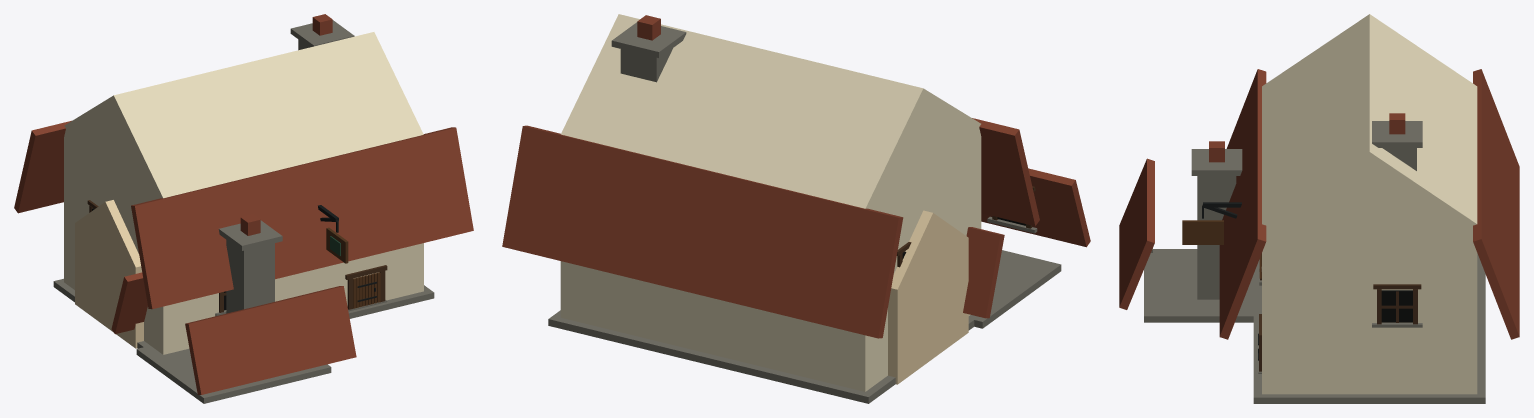
Rendered from house_inn.obj.
3 views of the same model, side by side, from view 1: azimuth 30°, elevation 25°; view 2: azimuth 150°, elevation 25°; view 3: azimuth 270°, elevation 25° (orthographic). The views are drawn at different scales.
Visible parts, largest first — view 1: house_inn walls, house_inn roof slope, house_inn wing roof slope, house_inn wing walls, house_inn kitchen chimney stack, house_inn wing footing, house_inn footing, house_inn kitchen chimney cap, house_inn chimney cap, house_inn door plank, house_inn sign board; view 2: house_inn walls, house_inn roof slope, house_inn wing walls, house_inn wing roof slope, house_inn footing, house_inn wing footing, house_inn chimney cap, house_inn chimney stack, house_inn chimney pot; view 3: house_inn walls, house_inn roof slope, house_inn wing footing, house_inn footing, house_inn wing roof slope, house_inn kitchen chimney stack, house_inn kitchen chimney cap, house_inn chimney cap, house_inn sign board, house_inn end light recess, house_inn chimney stack, house_inn chimney pot (+1 smaller).
Part boxes in pixels (left/top/right/bottom): house_inn walls: left=64, top=32, right=423, bottom=354; house_inn roof slope: left=14, top=120, right=473, bottom=309; house_inn wing roof slope: left=111, top=272, right=356, bottom=394; house_inn wing walls: left=75, top=200, right=143, bottom=348; house_inn kitchen chimney stack: left=226, top=240, right=274, bottom=313; house_inn wing footing: left=136, top=347, right=331, bottom=403; house_inn footing: left=53, top=278, right=434, bottom=359; house_inn kitchen chimney cap: left=218, top=220, right=282, bottom=250; house_inn chimney cap: left=290, top=20, right=354, bottom=47; house_inn door plank: left=353, top=272, right=380, bottom=308; house_inn sign board: left=326, top=227, right=348, bottom=263; house_inn walls: left=560, top=14, right=981, bottom=391; house_inn roof slope: left=502, top=118, right=1039, bottom=338; house_inn wing walls: left=888, top=210, right=968, bottom=384; house_inn wing roof slope: left=963, top=168, right=1090, bottom=318; house_inn footing: left=548, top=305, right=993, bottom=403; house_inn wing footing: left=968, top=250, right=1061, bottom=328; house_inn chimney cap: left=611, top=22, right=686, bottom=57; house_inn chimney stack: left=620, top=48, right=672, bottom=82; house_inn chimney pot: left=637, top=15, right=660, bottom=40; house_inn walls: left=1262, top=14, right=1477, bottom=394; house_inn roof slope: left=1219, top=69, right=1519, bottom=339; house_inn wing footing: left=1144, top=249, right=1261, bottom=322; house_inn footing: left=1253, top=253, right=1485, bottom=403; house_inn wing roof slope: left=1119, top=158, right=1154, bottom=309; house_inn kitchen chimney stack: left=1197, top=176, right=1236, bottom=299; house_inn kitchen chimney cap: left=1191, top=149, right=1242, bottom=175; house_inn chimney cap: left=1372, top=121, right=1422, bottom=147; house_inn sign board: left=1182, top=220, right=1223, bottom=244; house_inn end light recess: left=1381, top=290, right=1412, bottom=322; house_inn chimney stack: left=1382, top=148, right=1416, bottom=170; house_inn chimney pot: left=1389, top=113, right=1405, bottom=134.
Size of the model in its own units: 1160 by 837 by 1153.
